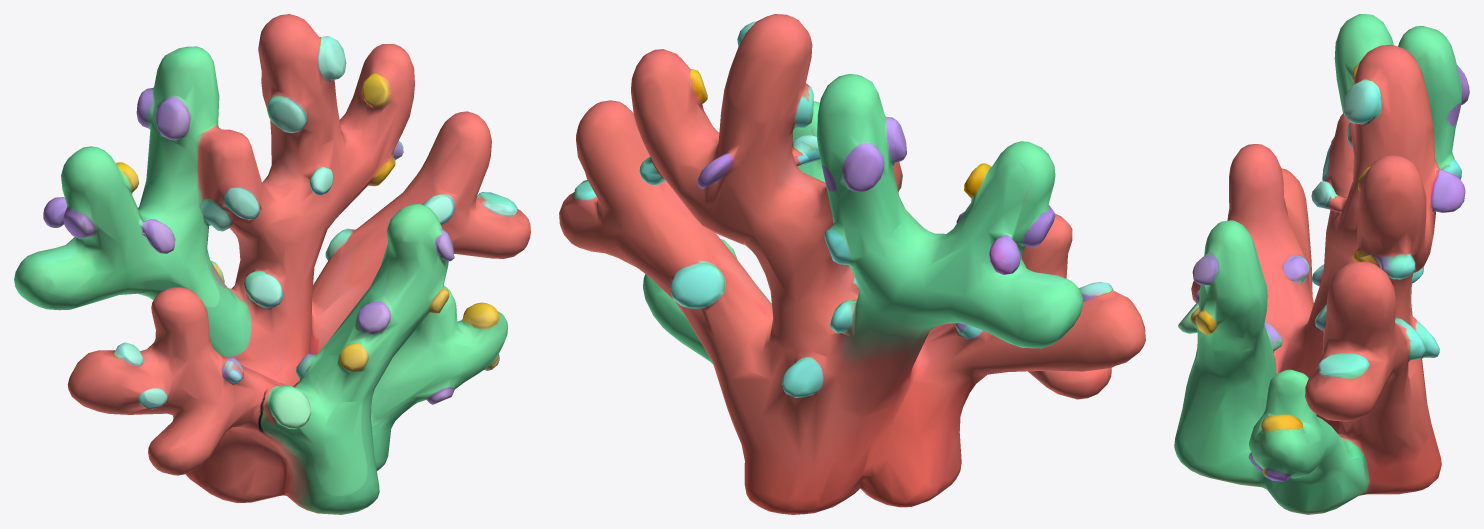
File: static.glb
3 views of the same model, side by side, from view 1: azimuth 30°, elevation 25°; view 2: azimuth 150°, elevation 25°; view 3: azimuth 270°, elevation 25° (orthographic). The views are drawn at different scales.
Visible parts, largest first — view 1: Mesh_0; view 2: Mesh_0; view 3: Mesh_0.
Part boxes in pixels (box(x1,y1,x2,y2)): Mesh_0: box(14, 14, 530, 514); Mesh_0: box(559, 14, 1145, 514); Mesh_0: box(1174, 14, 1469, 514).
Bounding box in the file's own units: 1.9 × 1.6 × 0.9644.
Materials: 1 (1 with a texture image).
